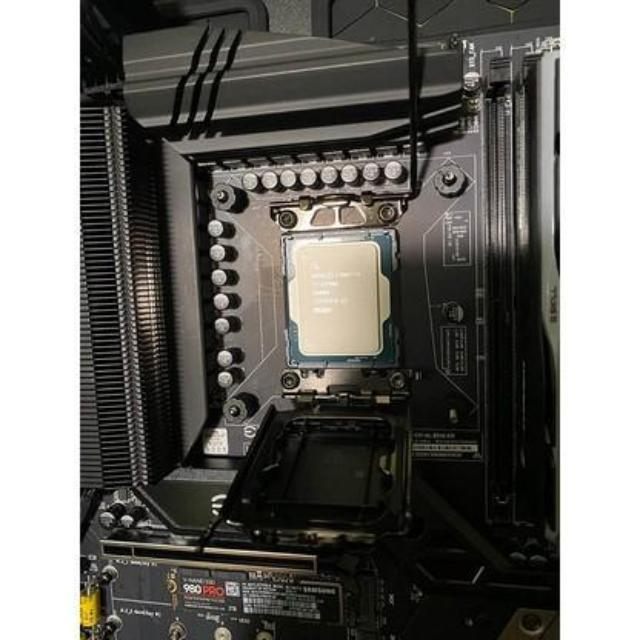CPU: (286, 238, 400, 368)
